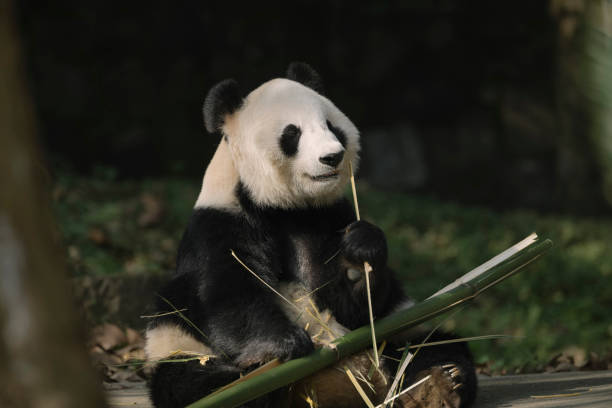panda: (187, 58, 376, 224)
